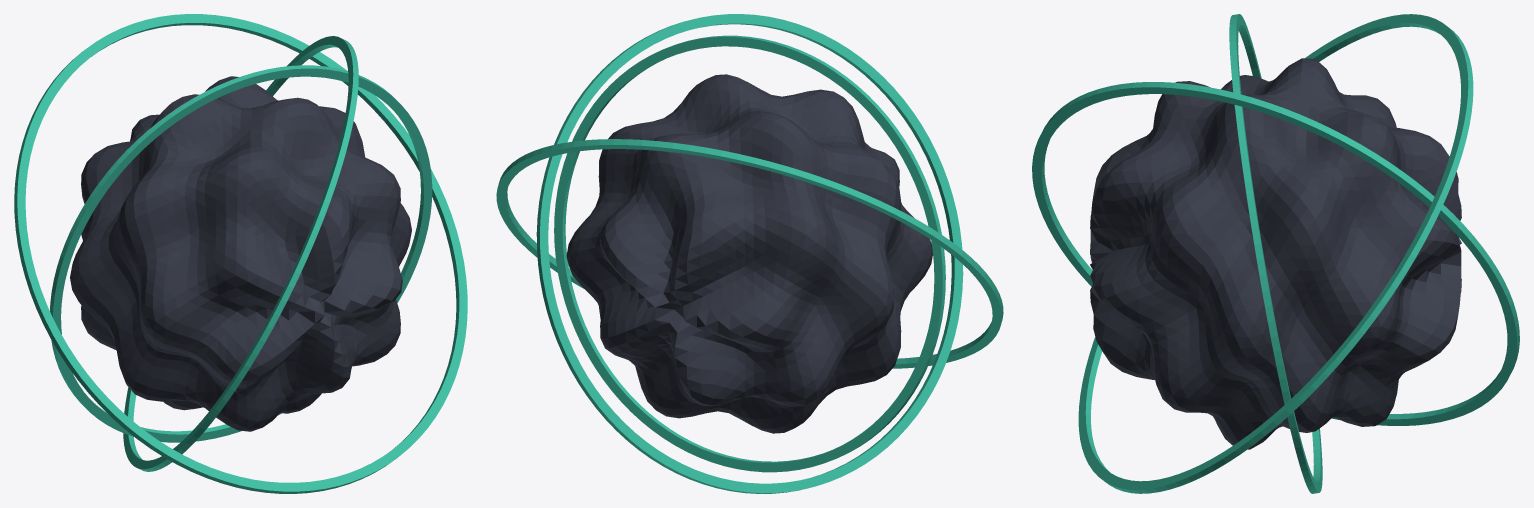
Rendered from gpu-artifact.glb.
3 views of the same model, side by side, from view 1: azimuth 30°, elevation 25°; view 2: azimuth 150°, elevation 25°; view 3: azimuth 270°, elevation 25° (orthographic). The views are drawn at different scales.
Parts seen in each view (by area): view 1: agent-capsule-jail_obsidian_core, agent-capsule-jail_orbital_ring_2, agent-capsule-jail_orbital_ring_0, agent-capsule-jail_orbital_ring_1; view 2: agent-capsule-jail_obsidian_core, agent-capsule-jail_orbital_ring_1, agent-capsule-jail_orbital_ring_0, agent-capsule-jail_orbital_ring_2; view 3: agent-capsule-jail_obsidian_core, agent-capsule-jail_orbital_ring_1, agent-capsule-jail_orbital_ring_2, agent-capsule-jail_orbital_ring_0.
Part boxes in pixels (left/top/right/bottom): agent-capsule-jail_obsidian_core: left=70, top=76, right=411, bottom=431; agent-capsule-jail_orbital_ring_2: left=14, top=14, right=467, bottom=493; agent-capsule-jail_orbital_ring_0: left=50, top=65, right=432, bottom=442; agent-capsule-jail_orbital_ring_1: left=123, top=36, right=358, bottom=471; agent-capsule-jail_obsidian_core: left=566, top=74, right=932, bottom=433; agent-capsule-jail_orbital_ring_1: left=536, top=14, right=963, bottom=493; agent-capsule-jail_orbital_ring_0: left=554, top=35, right=945, bottom=472; agent-capsule-jail_orbital_ring_2: left=496, top=139, right=1003, bottom=368; agent-capsule-jail_obsidian_core: left=1090, top=58, right=1461, bottom=449; agent-capsule-jail_orbital_ring_1: left=1032, top=82, right=1519, bottom=425; agent-capsule-jail_orbital_ring_2: left=1078, top=14, right=1473, bottom=493; agent-capsule-jail_orbital_ring_0: left=1229, top=14, right=1322, bottom=493.
Size of the model in its own units: 3.22 by 2.72 by 2.77.
